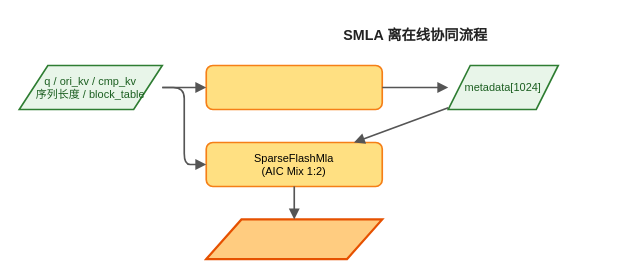
This 644x278 diagram has some shape labels left out. The box of each missing label's shape, as (x1, y1, x2, y2) in pixels:
attn_out / softmax_lse: (205, 218, 383, 260)
SparseFlashMlaMetadata (AICPU 负载均衡): (205, 64, 383, 110)
